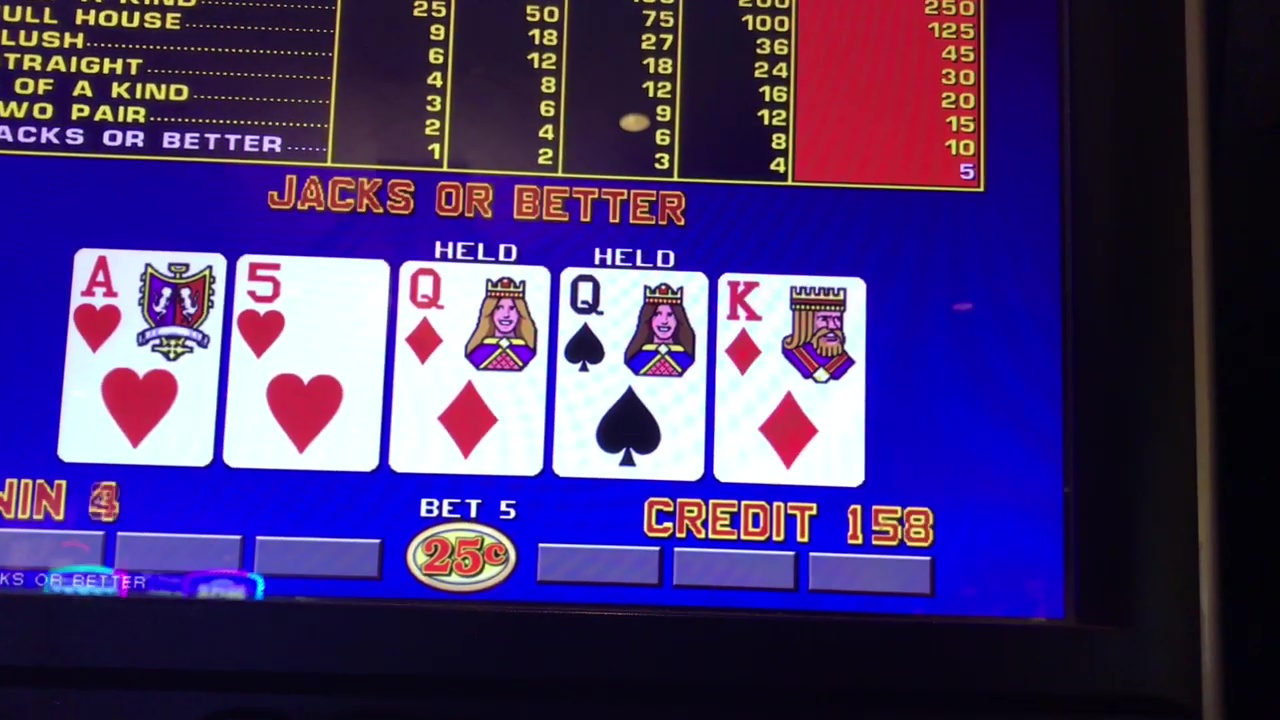DK: (722, 274, 858, 377)
DQ: (404, 267, 541, 367)
H5: (239, 258, 377, 361)
HA: (73, 253, 214, 355)
SQ: (566, 271, 702, 374)
